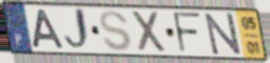A: (31, 8, 67, 50)
F: (171, 10, 203, 55)
J: (62, 6, 93, 54)
N: (203, 12, 244, 57)
S: (98, 9, 134, 53)
X: (130, 10, 169, 55)
